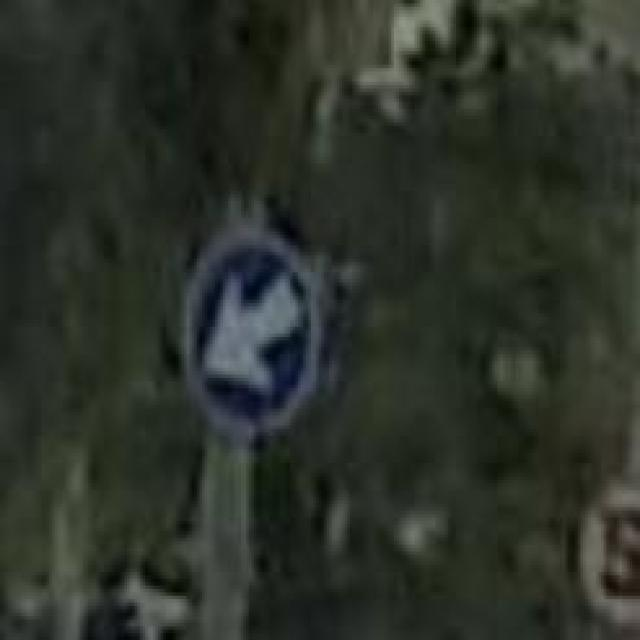traffic sign: (187, 235, 314, 436)
